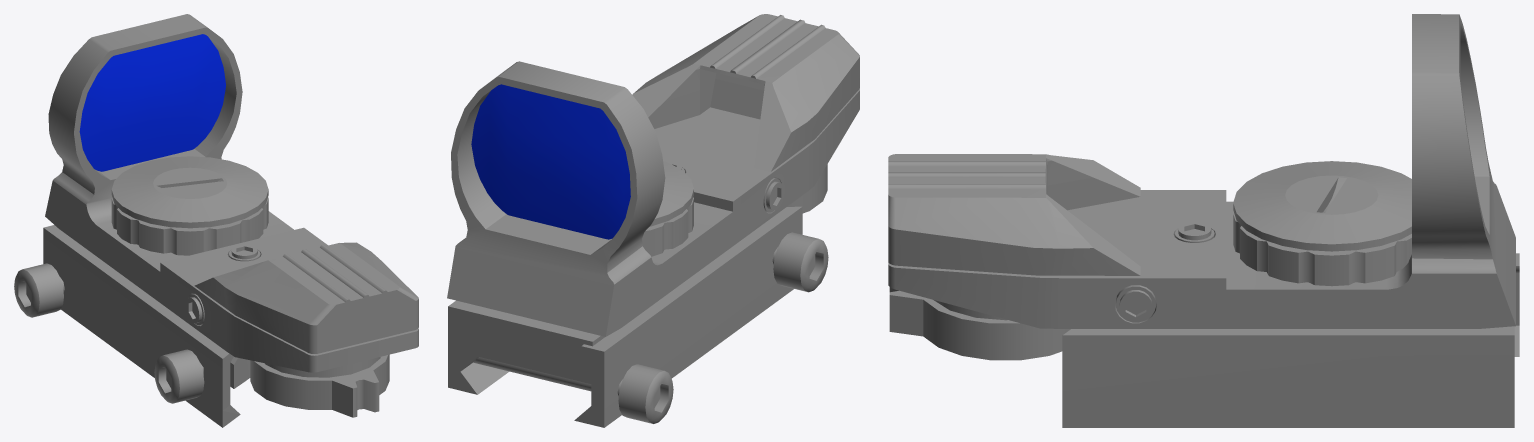
File: rds_low.fbx
The picture shows the model from 3 angles, left to right: view 1: azimuth 30°, elevation 25°; view 2: azimuth 150°, elevation 25°; view 3: azimuth 270°, elevation 25°; orthographic projection. The views are drawn at different scales.
Visible parts, largest first — view 1: RedDotSight_mesh; view 2: RedDotSight_mesh; view 3: RedDotSight_mesh.
Boxes of the visible parts, bbox=[...] form: RedDotSight_mesh: bbox=[14, 14, 418, 427]; RedDotSight_mesh: bbox=[447, 14, 859, 427]; RedDotSight_mesh: bbox=[888, 14, 1519, 427].
Size of the model in its own units: 69.66 by 94.24 by 158.
